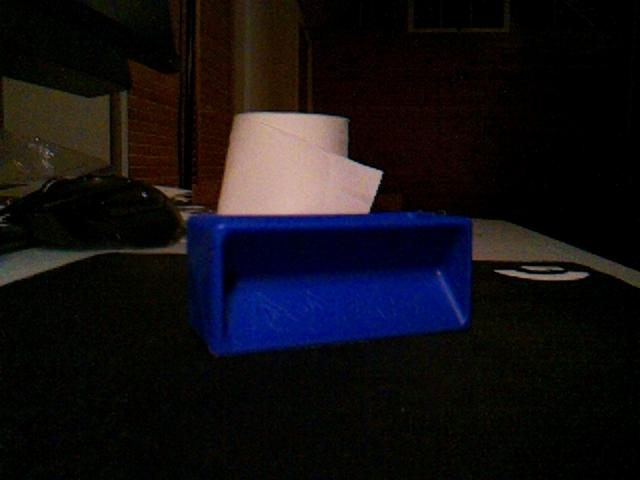blue: (185, 210, 475, 358)
